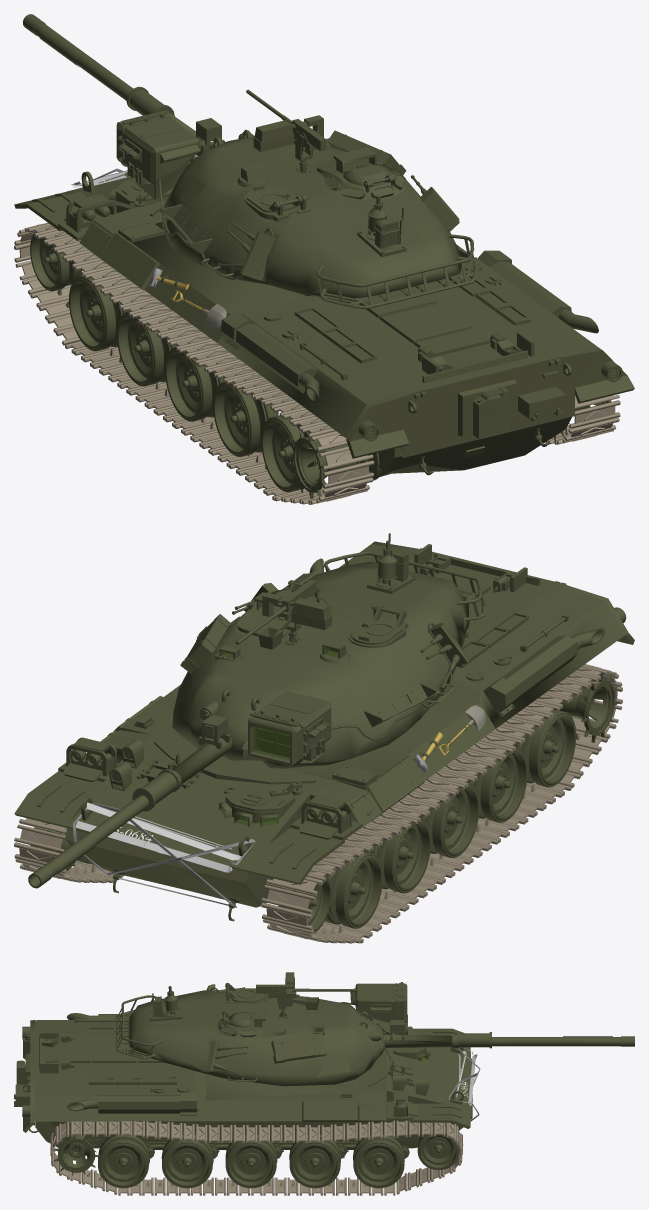
Rendered from type74.glb.
The picture shows the model from 3 angles, top to bottom: view 1: azimuth 30°, elevation 25°; view 2: azimuth 150°, elevation 25°; view 3: azimuth 270°, elevation 25°; orthographic projection. The views are drawn at different scales.
Parts seen in each view (by area): view 1: V_type74__Body_10, V_type74__Turret_4, V_type74__Body_9, V_type74__Body_5, V_type74__Body_8, V_type74__Gun_2; view 2: V_type74__Turret_4, V_type74__Body_10, V_type74__Body_5, V_type74__Body_8, V_type74__Body_9, V_type74__Gun_2, V_type74__Body_3, V_type74__Body_6, V_type74__Turret_1, V_type74__Turret_2; view 3: V_type74__Body_10, V_type74__Turret_4, V_type74__Body_8, V_type74__Body_9, V_type74__Body_5, V_type74__Gun_2, V_type74__W10_1, V_type74__Turret_3, V_type74__W12_1, V_type74__W02_1, V_type74__Body_3.
Boxes of the visible parts, box(x1,y1,x2,y2) form: V_type74__Body_10: box(14, 177, 634, 499); V_type74__Turret_4: box(116, 89, 478, 308); V_type74__Body_9: box(14, 134, 619, 492); V_type74__Body_5: box(14, 222, 620, 504); V_type74__Body_8: box(64, 138, 626, 491); V_type74__Gun_2: box(23, 14, 211, 156); V_type74__Turret_4: box(172, 533, 486, 768); V_type74__Body_10: box(14, 541, 628, 907); V_type74__Body_5: box(14, 664, 622, 943); V_type74__Body_8: box(63, 548, 634, 928); V_type74__Body_9: box(30, 544, 604, 932); V_type74__Gun_2: box(28, 734, 232, 888); V_type74__Body_3: box(76, 802, 241, 872); V_type74__Body_6: box(73, 754, 428, 907); V_type74__Turret_1: box(222, 647, 337, 760); V_type74__Turret_2: box(331, 683, 369, 719); V_type74__Body_10: box(16, 1013, 471, 1175); V_type74__Turret_4: box(116, 972, 407, 1086); V_type74__Body_8: box(14, 1014, 472, 1187); V_type74__Body_9: box(22, 1014, 470, 1188); V_type74__Body_5: box(50, 1120, 463, 1195); V_type74__Gun_2: box(383, 1032, 634, 1048); V_type74__W10_1: box(98, 1133, 153, 1174); V_type74__Turret_3: box(318, 1049, 350, 1076); V_type74__W12_1: box(419, 1126, 450, 1158); V_type74__W02_1: box(353, 1133, 408, 1174); V_type74__Body_3: box(456, 1050, 477, 1105).
Size of the model in its own units: 8.97 by 7.22 by 24.62.
